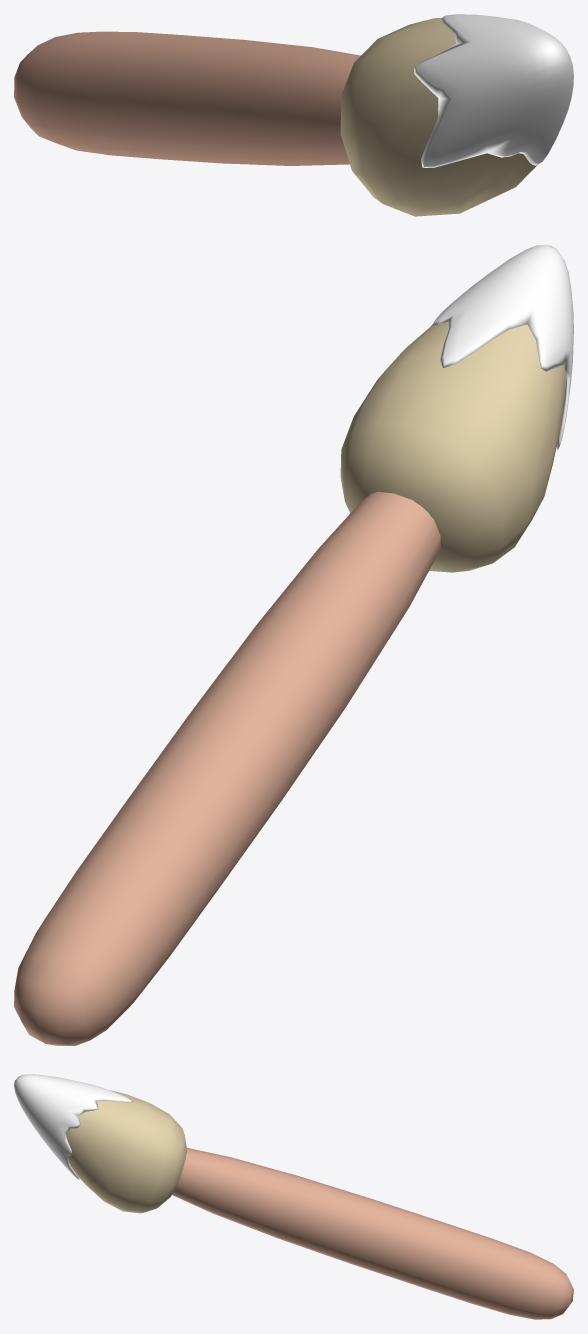
Rendered from paintbrush 2.fbx.
The picture shows the model from 3 angles, top to bottom: view 1: azimuth 30°, elevation 25°; view 2: azimuth 150°, elevation 25°; view 3: azimuth 270°, elevation 25°; orthographic projection. The views are drawn at different scales.
Parts seen in each view (by area): view 1: brush_handle, brush_tip_001, brush_paint; view 2: brush_handle, brush_tip_001, brush_paint; view 3: brush_handle, brush_tip_001, brush_paint.
Part boxes in pixels (x1,y1,x2,y2): brush_handle: [14, 31, 360, 165]; brush_tip_001: [340, 18, 537, 216]; brush_paint: [414, 14, 573, 167]; brush_handle: [14, 491, 440, 1045]; brush_tip_001: [340, 321, 566, 572]; brush_paint: [431, 245, 573, 450]; brush_handle: [172, 1148, 573, 1319]; brush_tip_001: [65, 1090, 186, 1213]; brush_paint: [14, 1074, 133, 1179].
Bounding box in the file's own units: 18.96 × 45.77 × 96.34.
